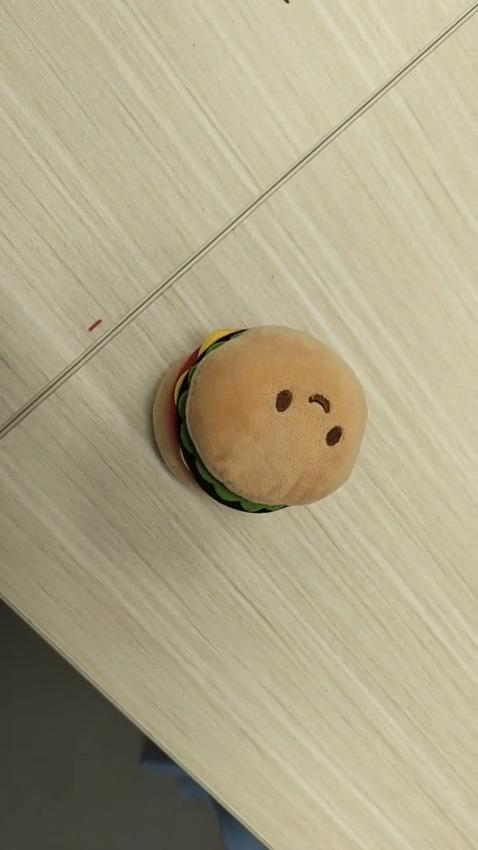hamburger: (151, 323, 368, 514)
